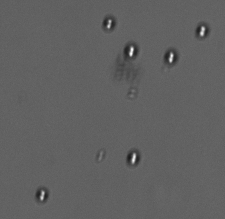Living Cell: (125, 149, 143, 167), (193, 21, 210, 39), (163, 47, 179, 66), (123, 42, 140, 59), (34, 186, 49, 203), (101, 15, 116, 31)
